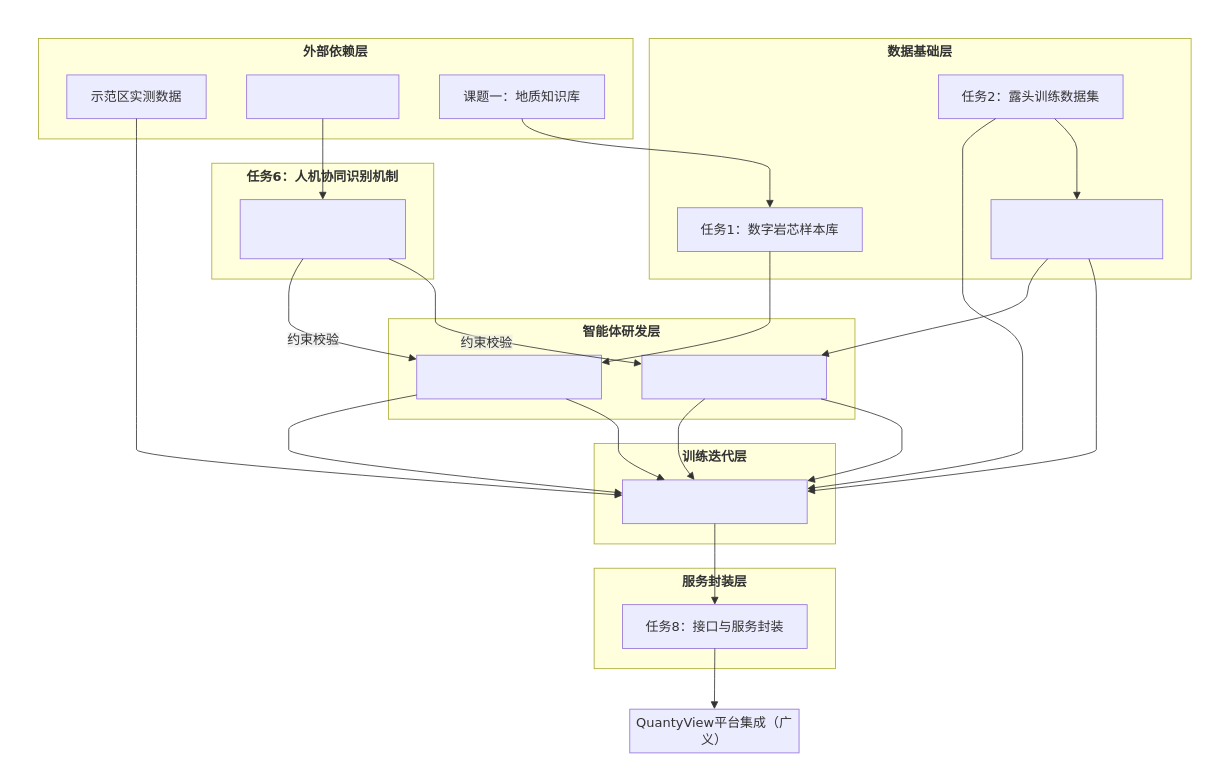
This 1205x767 diagram has some shape labels left out. The centre of each missing label's shape, as x and y in pixels:
"任务3：露头三维模型 语义对象模型" goes at (1076,229).
"任务4：岩芯识别智能体" goes at (508,376).
"任务5：露头识别智能体" goes at (734,376).
"任务7：训练与迭代优化" goes at (714,501).
"课题一：知识图谱" goes at (322,96).
"输出：语义约束能力 人机协同闭环机制" goes at (322,229).
